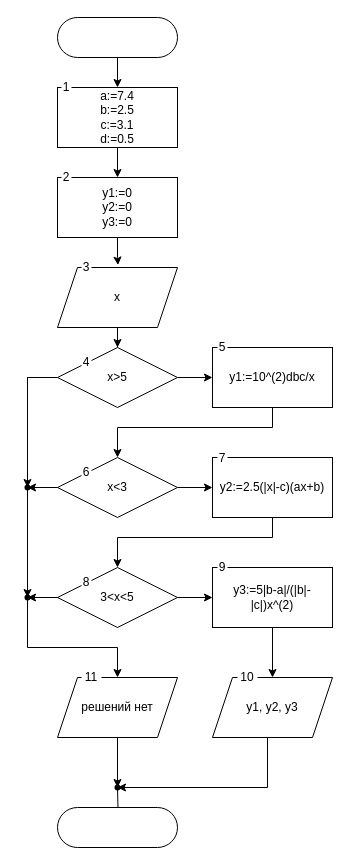
The diagram is 350 pixels wide and 865 high, and some of its shapes have lost their labels. The centre of each missing label's shape, as x and y in pixels:
конец: the point at 117,827
начало: the point at 117,37
